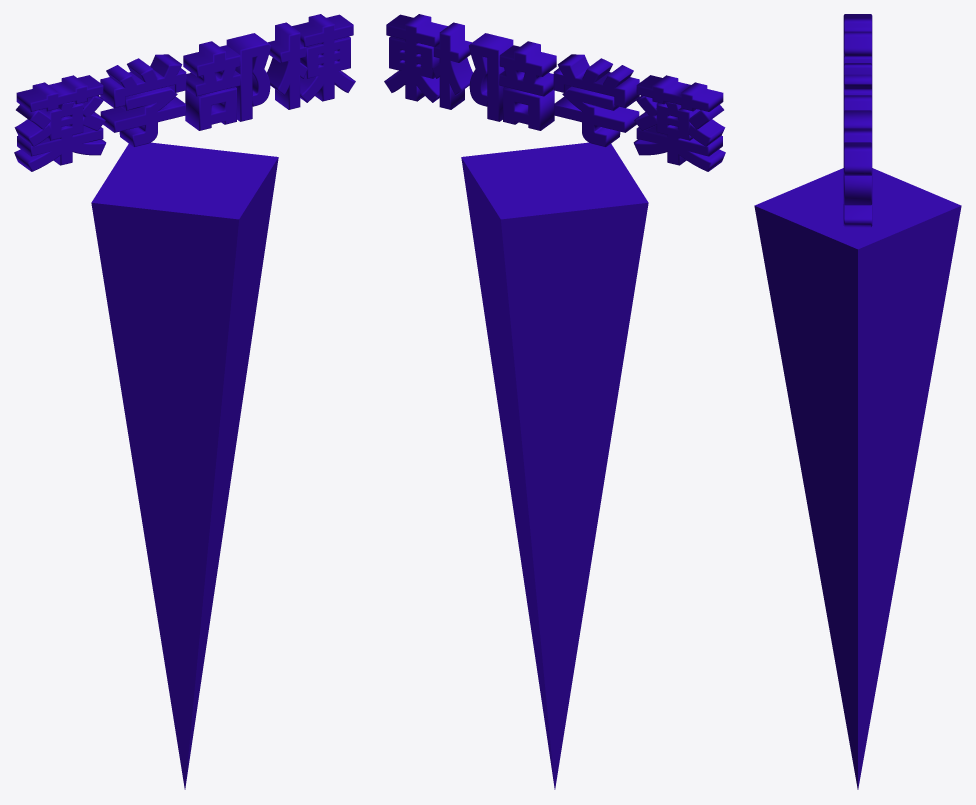
The model's file is yakugakutou.glb.
3 renders of one model, left to right at view 1: azimuth 30°, elevation 25°; view 2: azimuth 150°, elevation 25°; view 3: azimuth 270°, elevation 25°, orthographic. The views are drawn at different scales.
Visible parts, largest first — view 1: Cone, Text; view 2: Cone, Text; view 3: Cone, Text.
Boxes of the visible parts, left/top/right/bottom form: Cone: left=91, top=142, right=278, bottom=789; Text: left=14, top=14, right=355, bottom=171; Cone: left=461, top=142, right=648, bottom=789; Text: left=384, top=14, right=725, bottom=171; Cone: left=754, top=168, right=961, bottom=789; Text: left=843, top=14, right=872, bottom=227.
Bounding box in the file's own units: 2.81 × 6.03 × 1.6.
